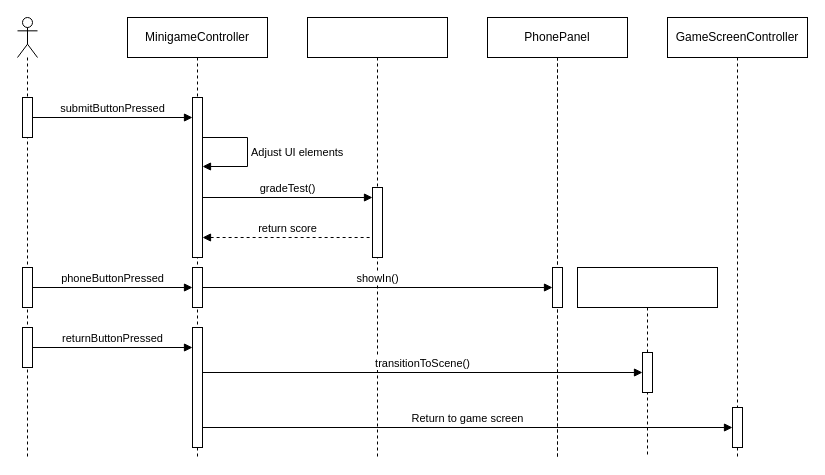
The diagram is 825 pixels wide and 475 high, and some of its shapes have lost their labels. The shapes that lost their labels are listed below. From the top down, each one's box as (x1, y1, x2, y2) in pixels, then its label:
(306, 16, 448, 458): Exam
(576, 266, 718, 458): current DialogueController
